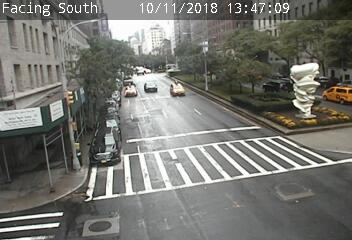car: (89, 128, 118, 165), (323, 84, 352, 104), (263, 79, 292, 95), (170, 82, 184, 96), (124, 85, 136, 96), (144, 82, 157, 92)
